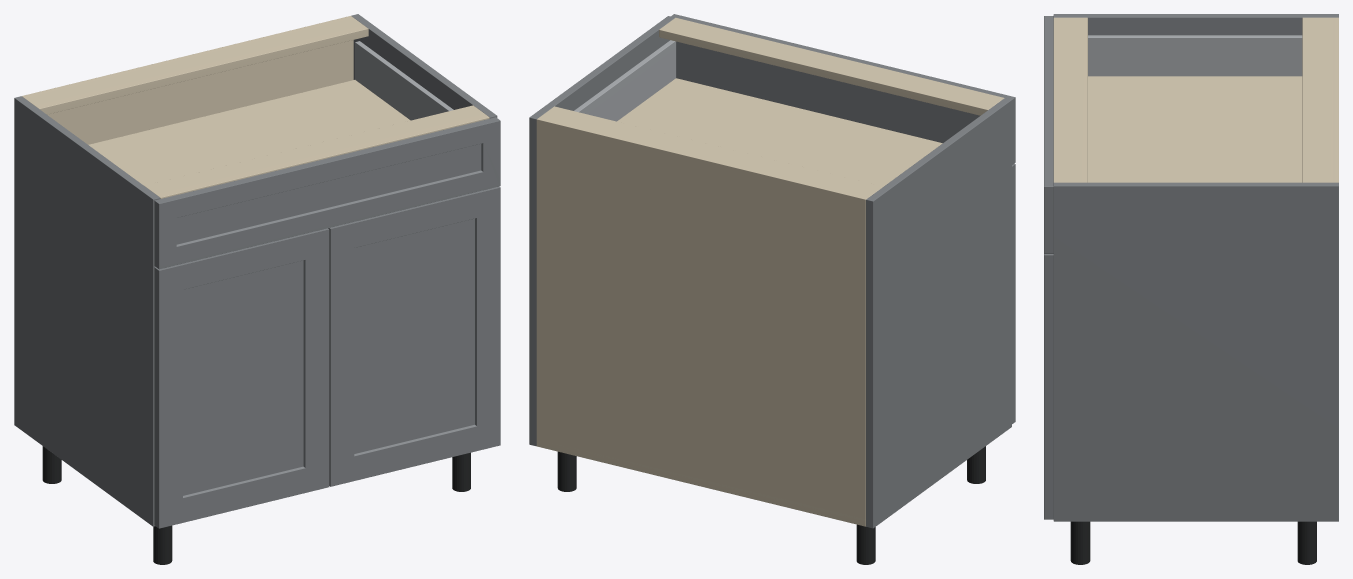
Rendered from oppein-ply-gss-b33.glb.
3 renders of one model, left to right at view 1: azimuth 30°, elevation 25°; view 2: azimuth 150°, elevation 25°; view 3: azimuth 270°, elevation 25°, orthographic. The views are drawn at different scales.
Parts seen in each view (by area): view 1: Cabinet side, Door, Door.001, Drawer front, Drawer floor, Cabinet back, Top support rail, Top support rail.001, Drawer side.001, Cabinet side.001, Adjustable foot.001, Adjustable foot.003 (+1 smaller); view 2: Cabinet back, Cabinet side, Drawer floor, Drawer front, Top support rail.001, Cabinet side.001, Top support rail, Drawer side.001, Cabinet bottom, Door, Adjustable foot, Adjustable foot.002; view 3: Cabinet side.001, Drawer floor, Drawer side, Top support rail.001, Top support rail, Cabinet side, Door.001, Drawer front, Cabinet back, Adjustable foot.003, Adjustable foot.002.
Part boxes in pixels (x1,y1,x2,y2): Cabinet side: (14, 96, 160, 526); Door: (154, 228, 329, 528); Door.001: (328, 186, 500, 486); Drawer front: (154, 117, 500, 269); Drawer floor: (88, 80, 410, 185); Cabinet back: (22, 16, 353, 144); Top support rail: (24, 17, 368, 114); Top support rail.001: (144, 105, 489, 198); Drawer side.001: (355, 41, 453, 120); Cabinet side.001: (351, 14, 497, 118); Adjustable foot.001: (153, 525, 172, 564); Adjustable foot.003: (452, 452, 470, 491); Cabinet back: (536, 117, 867, 526); Cabinet side: (866, 98, 1011, 528); Drawer floor: (617, 78, 942, 186); Drawer front: (671, 14, 1015, 164); Top support rail.001: (659, 17, 1004, 115); Cabinet side.001: (529, 16, 674, 446); Top support rail: (540, 106, 883, 197); Drawer side.001: (574, 40, 676, 121); Cabinet bottom: (537, 440, 865, 526); Door: (1012, 163, 1015, 423); Adjustable foot: (856, 524, 875, 564); Adjustable foot.002: (557, 451, 576, 491); Cabinet side.001: (1053, 182, 1338, 521); Drawer floor: (1088, 76, 1302, 182); Drawer side: (1088, 35, 1302, 76); Top support rail.001: (1053, 17, 1087, 182); Top support rail: (1302, 17, 1333, 182); Cabinet side: (1053, 14, 1338, 35); Door.001: (1044, 254, 1053, 519); Drawer front: (1044, 16, 1053, 253); Cabinet back: (1333, 17, 1338, 182); Adjustable foot.003: (1070, 521, 1090, 564); Adjustable foot.002: (1297, 521, 1316, 564).
Size of the model in its own units: 0.8382 by 0.8763 by 0.6064.
